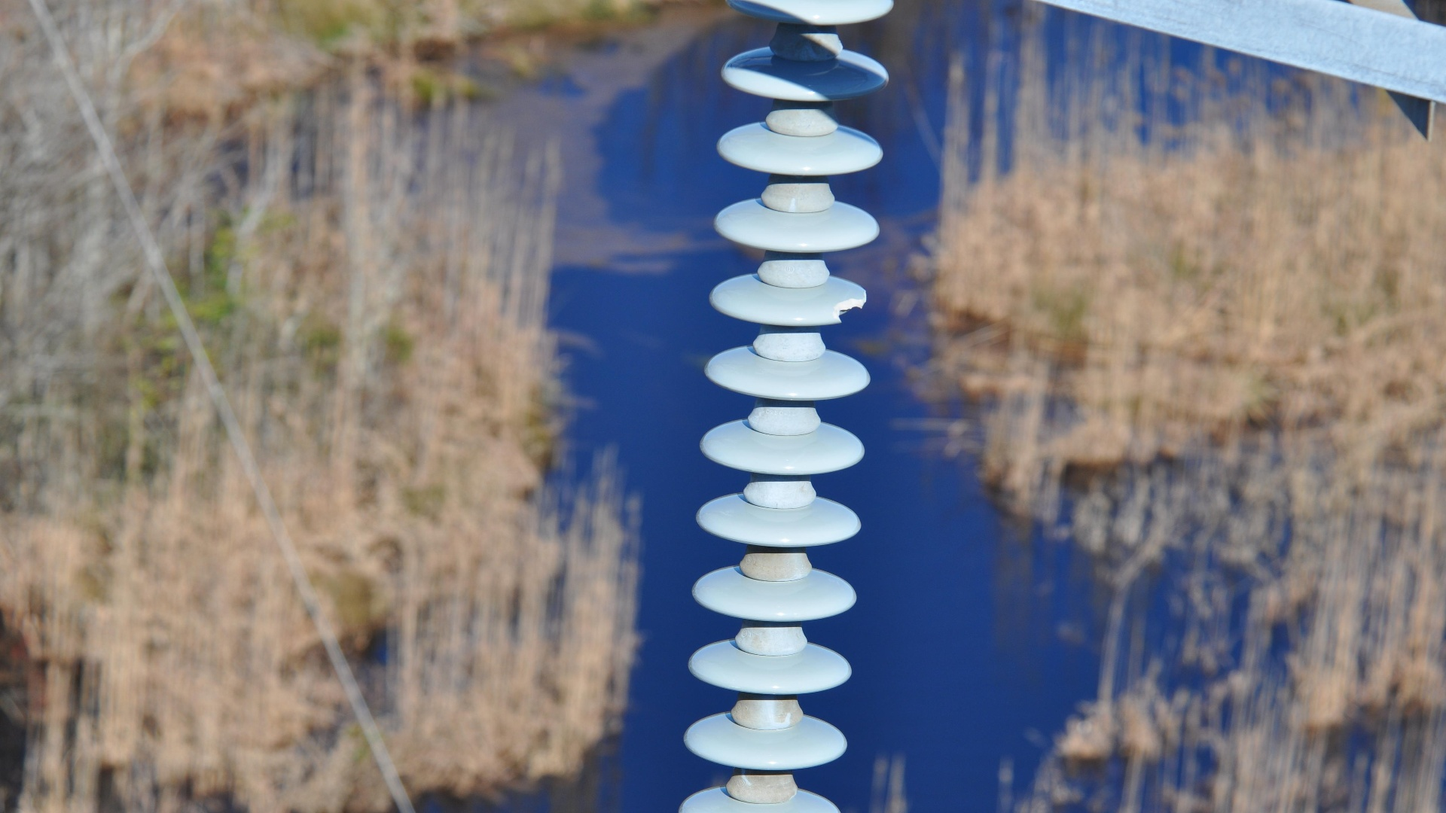insulator: (675, 1, 898, 813)
